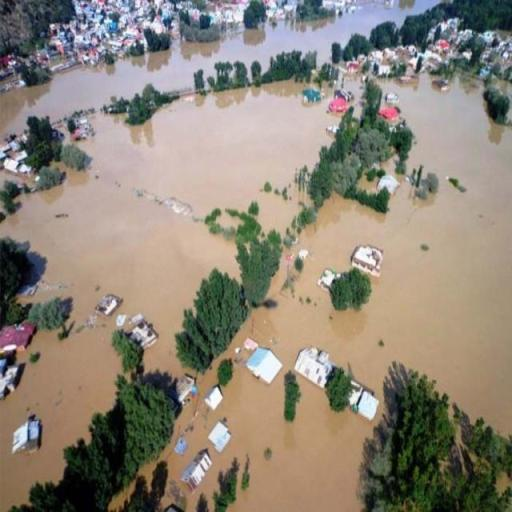flood: (159, 74, 512, 512), (0, 80, 340, 512), (0, 0, 440, 140), (493, 80, 512, 119), (138, 462, 157, 493), (345, 74, 362, 104), (111, 486, 132, 510)
house: (240, 340, 288, 386), (294, 349, 332, 386), (183, 450, 212, 492), (12, 418, 40, 454), (351, 245, 384, 275), (0, 323, 34, 349), (0, 359, 19, 398), (376, 102, 402, 128), (131, 320, 158, 345), (98, 294, 120, 317), (204, 386, 224, 408), (380, 176, 399, 196), (329, 97, 347, 112)
